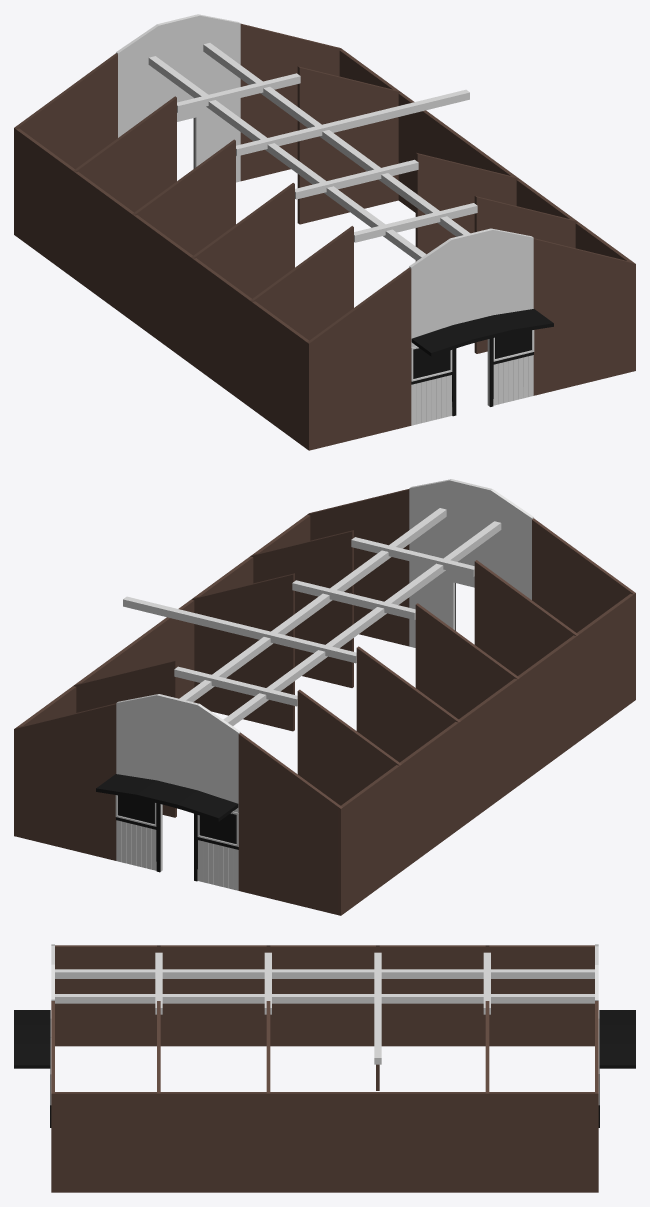
File: Main Body.fbx
3 renders of one model, top to bottom at view 1: azimuth 30°, elevation 25°; view 2: azimuth 150°, elevation 25°; view 3: azimuth 270°, elevation 25°, orthographic. The views are drawn at different scales.
Parts seen in each view (by area): view 1: Cube.157; view 2: Cube.157; view 3: Cube.157.
Part boxes in pixels (left/top/right/bottom): Cube.157: left=14, top=14, right=635, bottom=450; Cube.157: left=14, top=479, right=635, bottom=915; Cube.157: left=14, top=944, right=635, bottom=1192.
Bounding box in the file's own units: 984 × 494 × 1704.
